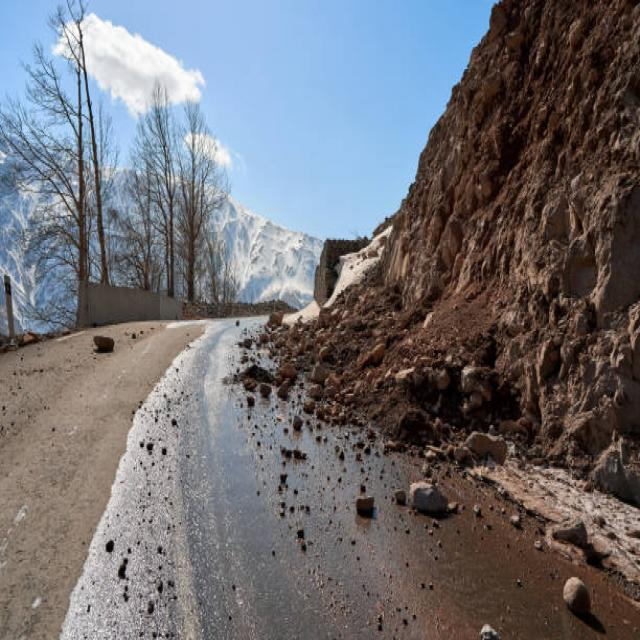landSliding: (100, 234, 565, 608)
